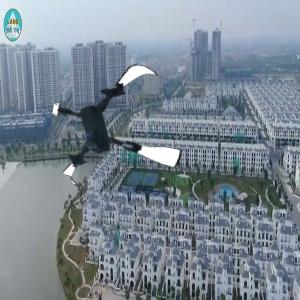drone: (52, 61, 188, 197)
